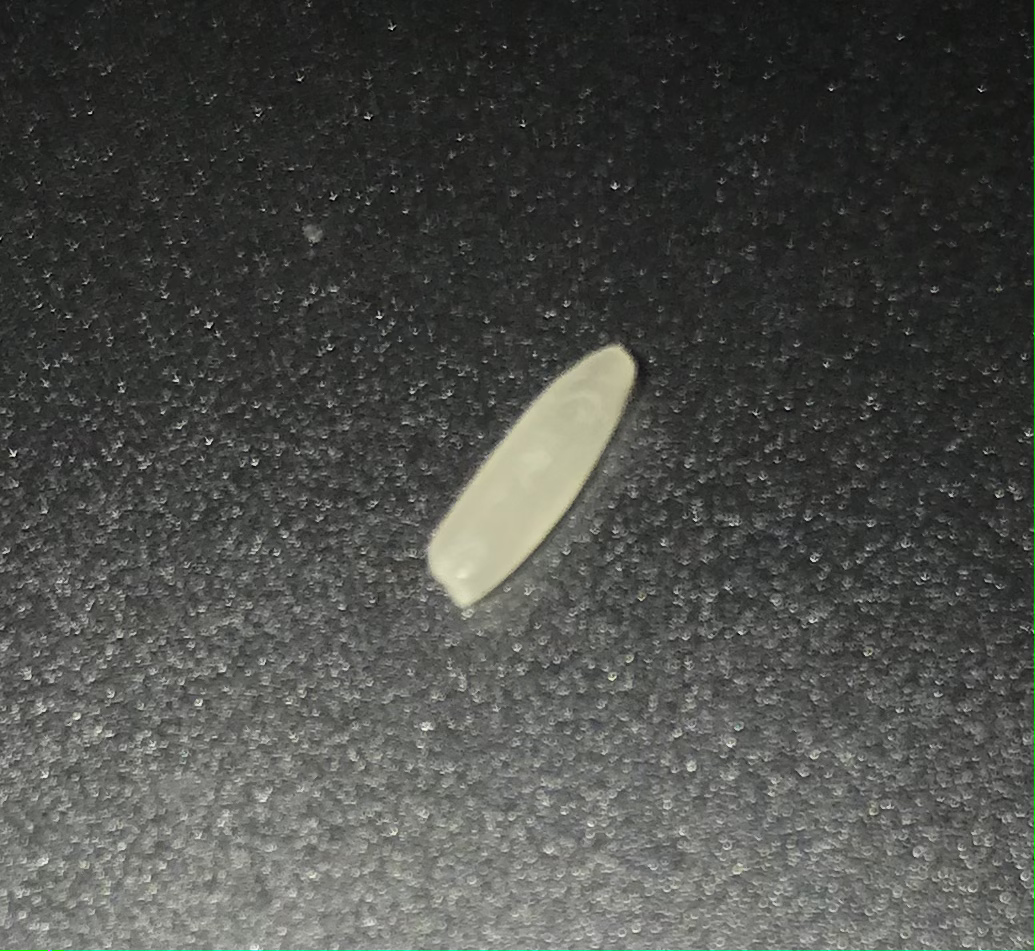Gao Thom My: (402, 318, 631, 600)
